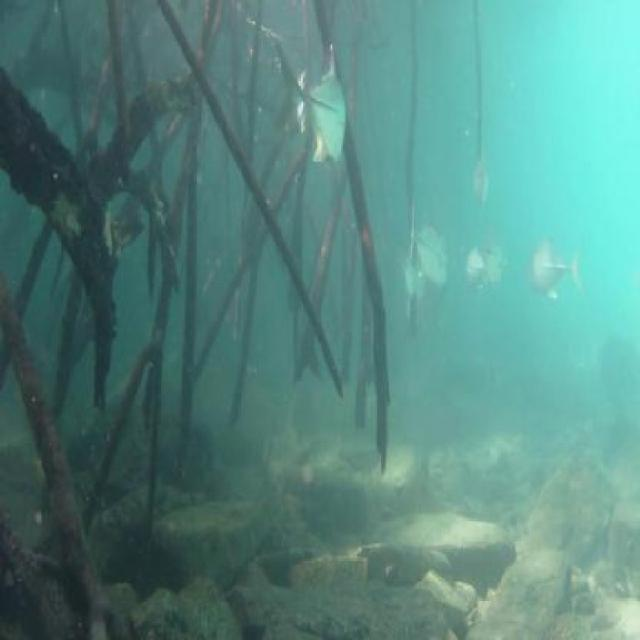Caranx_sexfasciatus_juvenile: (272, 30, 348, 185), (525, 225, 586, 307), (405, 204, 450, 296), (464, 235, 505, 300), (463, 141, 497, 217)
